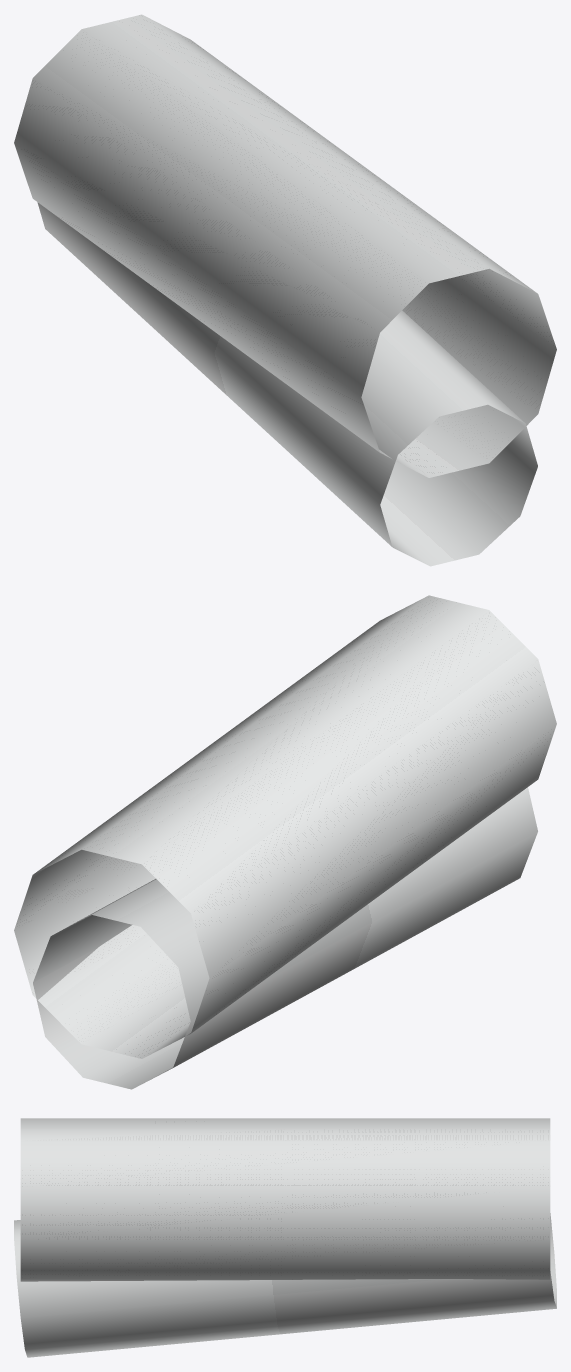
Rendered from trusssignalarm_level12_c17.obj.
3 views of the same model, one above another, from view 1: azimuth 30°, elevation 25°; view 2: azimuth 150°, elevation 25°; view 3: azimuth 270°, elevation 25° (orthographic). The views are drawn at different scales.
Parts seen in each view (by area): view 1: trusssignalarm_level12_c17; view 2: trusssignalarm_level12_c17; view 3: trusssignalarm_level12_c17.
Boxes of the visible parts, <box> form: trusssignalarm_level12_c17: <box>14,14,556,566</box>; trusssignalarm_level12_c17: <box>14,595,556,1089</box>; trusssignalarm_level12_c17: <box>14,1118,556,1357</box>.
Bounding box in the file's own units: 0.325 × 0.4569 × 1.03.
